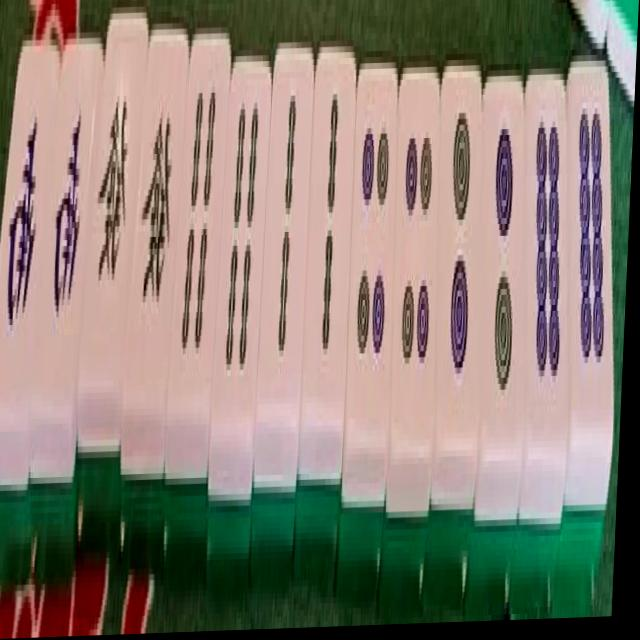fa: (131, 54, 184, 397), (89, 46, 139, 352)
s2: (305, 71, 357, 427), (258, 68, 311, 417)
s4: (171, 51, 227, 422), (219, 71, 271, 397)
south: (45, 69, 92, 376), (1, 66, 47, 375)
t2: (481, 88, 528, 443), (437, 84, 482, 405)
t4: (343, 80, 397, 429), (389, 84, 442, 427)
t8: (522, 80, 576, 451), (567, 78, 618, 400)
